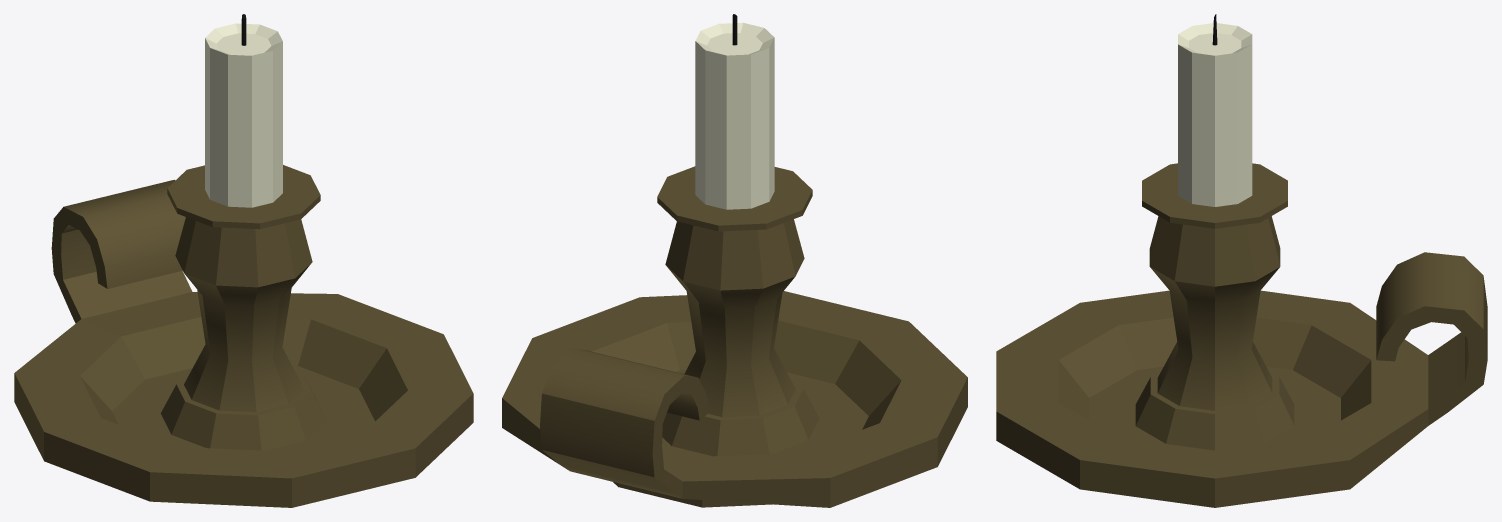
File: Candle_old.fbx
3 renders of one model, left to right at view 1: azimuth 30°, elevation 25°; view 2: azimuth 150°, elevation 25°; view 3: azimuth 270°, elevation 25°, orthographic.
Parts seen in each view (by area): view 1: pCylinder2; view 2: pCylinder2; view 3: pCylinder2.
Boxes of the visible parts, <box> form: pCylinder2: <box>14,14,473,507</box>; pCylinder2: <box>502,14,967,507</box>; pCylinder2: <box>996,14,1487,507</box>.
Bounding box in the file's own units: 0.1594 × 0.1611 × 0.1702.
